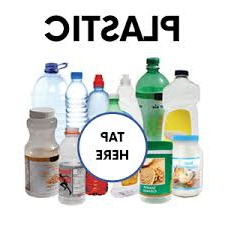plastic water bottle: (27, 59, 68, 113), (133, 53, 169, 114), (63, 70, 89, 132), (87, 73, 108, 113)
